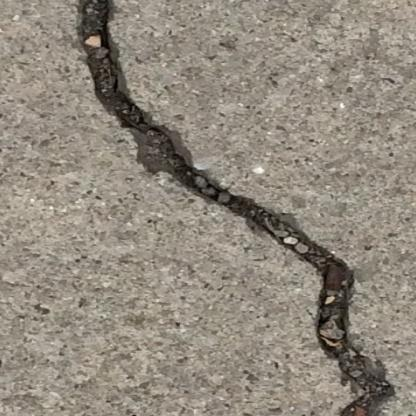Cracks: (64, 0, 401, 416)
